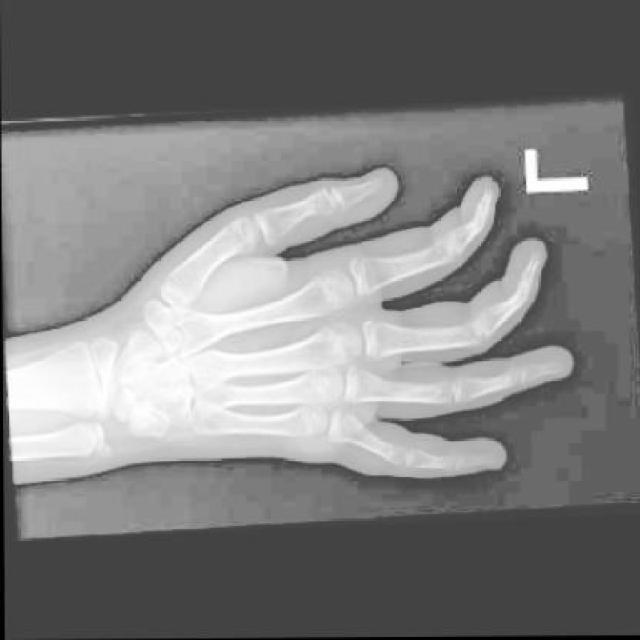Fracture: (332, 410, 362, 447)
